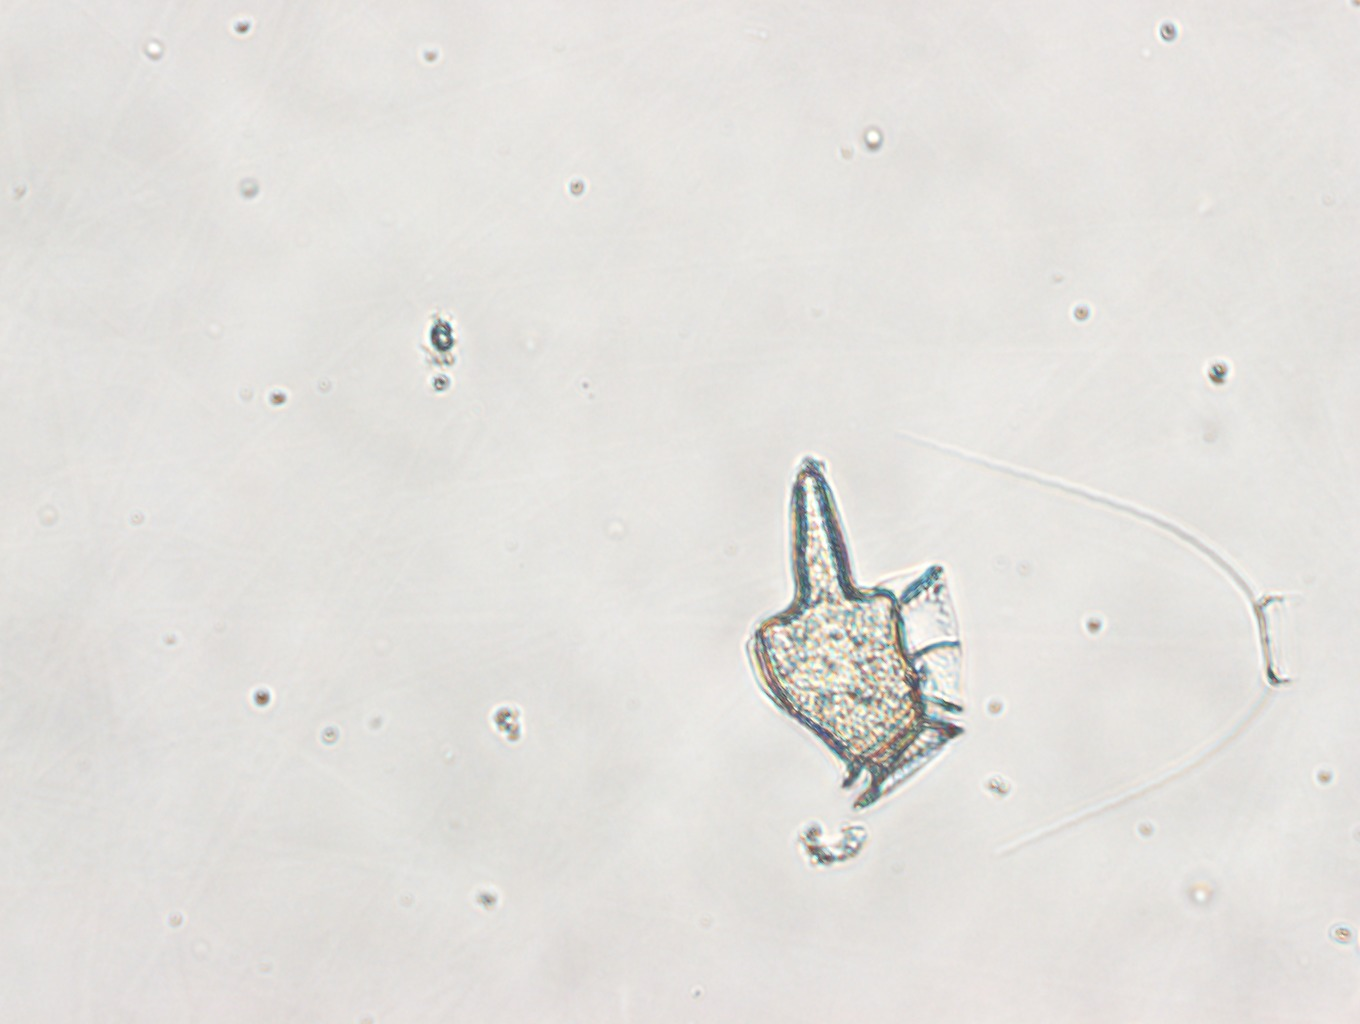chaetoceros: (911, 431, 1301, 856)
dinophysis caudata: (738, 452, 972, 810)
